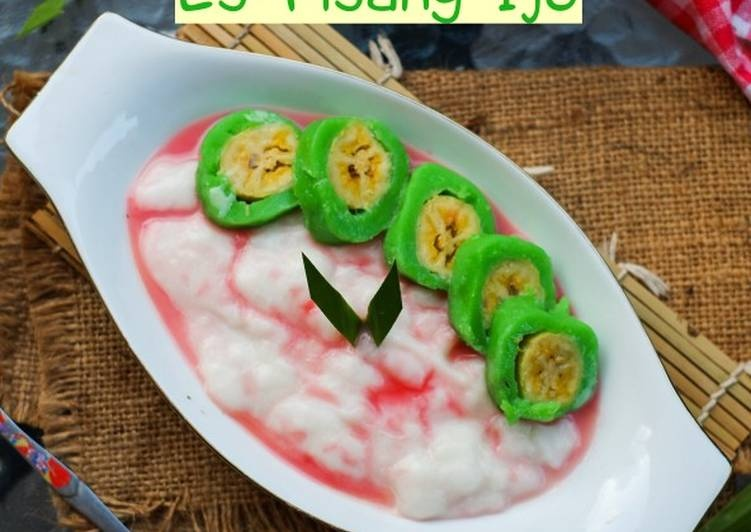es_pisang_ijo: (124, 102, 604, 523)
